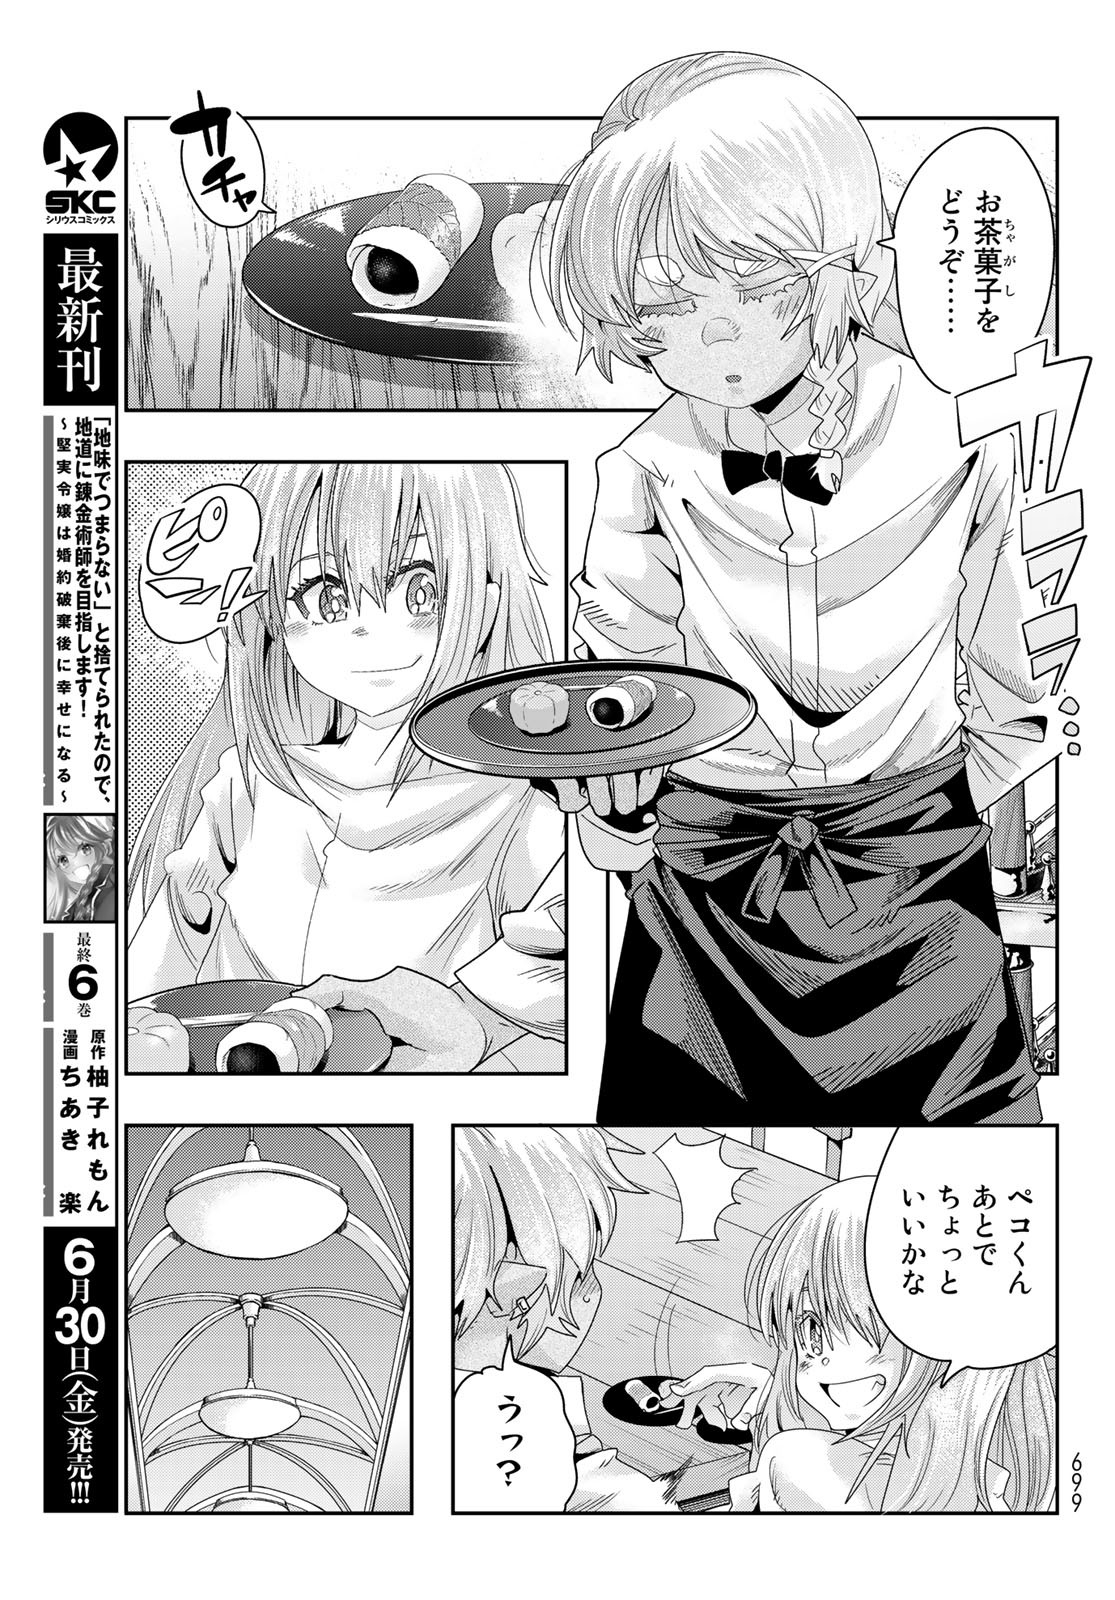bubble: (883, 125, 1057, 402), (869, 1123, 1060, 1364), (136, 478, 272, 650), (449, 1348, 582, 1519), (161, 97, 285, 240)
